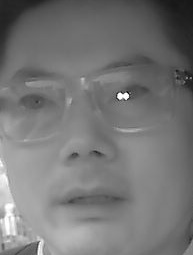glass: (90, 66, 175, 131), (1, 80, 69, 141)
mouth: (55, 183, 131, 226)
